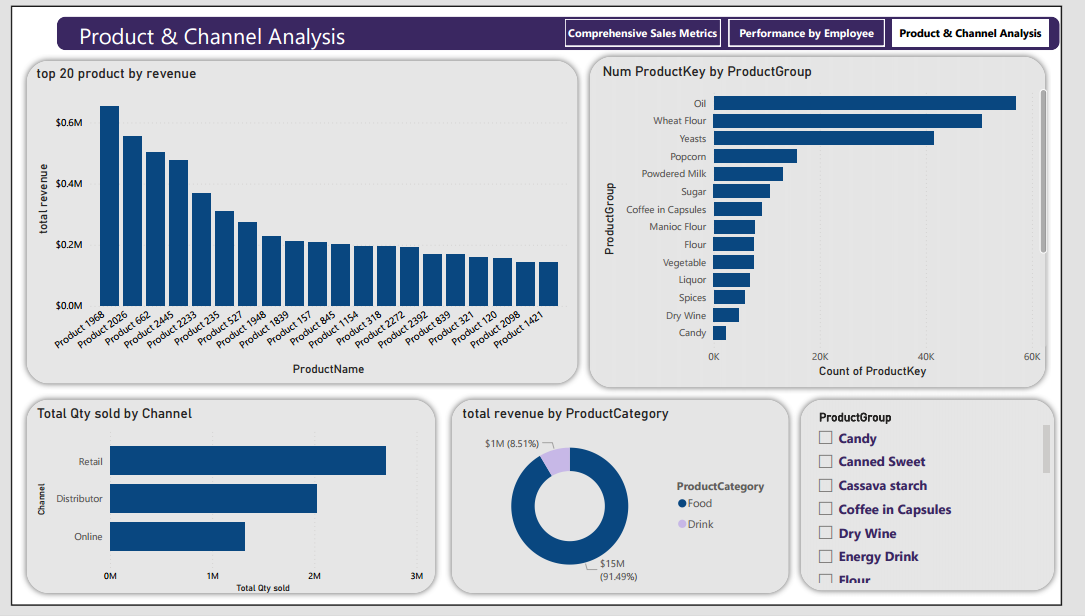

The page's visual inventory and layout, read from the dashboard file:
{"tool":"powerbi","page":{"name":"Product & Channel Analysis","canvas":[1280,720],"ordinal":2},"visuals":[{"type":"shape","box":[699.1,49.1,570,419.1],"z":0},{"type":"shape","box":[11.8,468.2,512.7,251.8],"z":1000},{"type":"shape","box":[11.8,53.6,687.3,409.1],"z":2000},{"type":"shape","box":[56.4,8.2,1223.6,40.9],"z":3000},{"type":"pageNavigator","box":[676.4,10.9,592.7,33.6],"z":4000},{"type":"columnChart","title":"top 20 product by revenue","fields":{"Category":["product.ProductName"],"Y":["measure table.total revenue"]},"box":[26.4,67.3,657.3,383.6],"z":5000},{"type":"barChart","fields":{"Category":["FactTable.Channel"],"Y":["measure table.Total Qty sold"]},"box":[27.3,481.8,480.9,234.5],"z":6000},{"type":"shape","box":[530,468.2,426.4,251.8],"z":7000},{"type":"barChart","title":" Num ProductKey by ProductGroup","fields":{"Category":["product.ProductGroup"],"Y":["CountNonNull(FactTable.ProductKey)"]},"box":[717.3,64.5,551.8,389.1],"z":8000},{"type":"donutChart","fields":{"Category":["product.ProductCategory"],"Y":["measure table.total revenue"]},"box":[546.4,481.8,393.6,228.2],"z":9000},{"type":"shape","box":[956.4,468.2,323.6,248.2],"z":9001},{"type":"slicer","fields":{"Values":["product.ProductGroup"]},"box":[972.7,483.6,300,220.9],"z":9002},{"type":"textbox","box":[78.2,8.2,446.4,53.6],"z":9003}]}

Visuals, with their boxes in screenshot pixels (x1, y1, x2, y2), scaled from the page's 1280x720 canvas onto the 1085x616 screenshot:
shape: <bbox>593, 42, 1076, 401</bbox>
shape: <bbox>10, 401, 445, 615</bbox>
shape: <bbox>10, 46, 593, 396</bbox>
shape: <bbox>48, 7, 1084, 42</bbox>
pageNavigator: <bbox>573, 9, 1076, 38</bbox>
"top 20 product by revenue" columnChart: <bbox>22, 58, 580, 386</bbox>
barChart - FactTable.Channel x measure table.Total Qty sold: <bbox>23, 412, 431, 613</bbox>
shape: <bbox>449, 401, 811, 615</bbox>
" Num ProductKey by ProductGroup" barChart: <bbox>608, 55, 1076, 388</bbox>
donutChart - product.ProductCategory x measure table.total revenue: <bbox>463, 412, 797, 607</bbox>
shape: <bbox>811, 401, 1084, 613</bbox>
slicer - product.ProductGroup: <bbox>825, 414, 1079, 603</bbox>
textbox: <bbox>66, 7, 445, 53</bbox>
